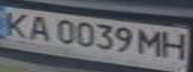0: (51, 16, 78, 46), (72, 19, 96, 48)
3: (93, 21, 118, 52)
9: (112, 24, 136, 55)
A: (24, 12, 54, 43)
H: (160, 29, 193, 61)
K: (0, 8, 36, 38)
M: (136, 27, 166, 58)
